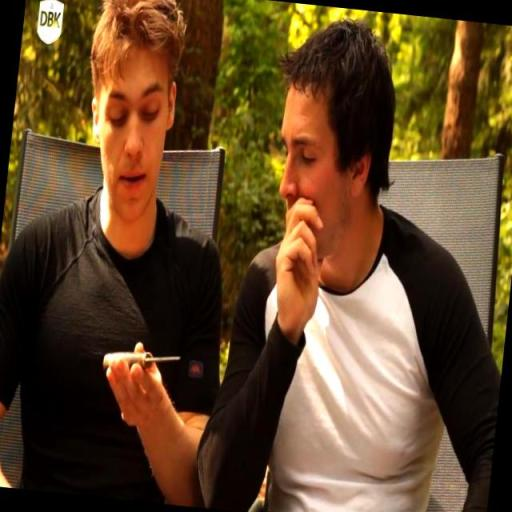knife: (88, 319, 189, 410)
